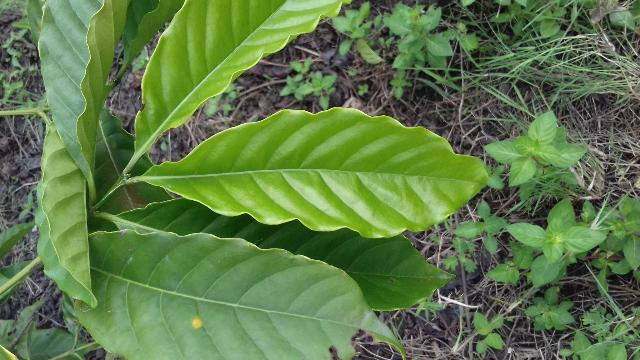healthy: (129, 104, 496, 238)
